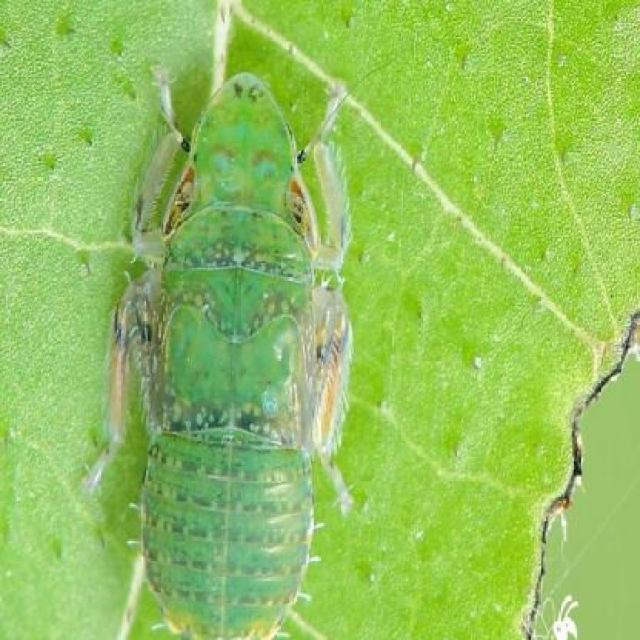green-leafhopper: (116, 72, 362, 633)
